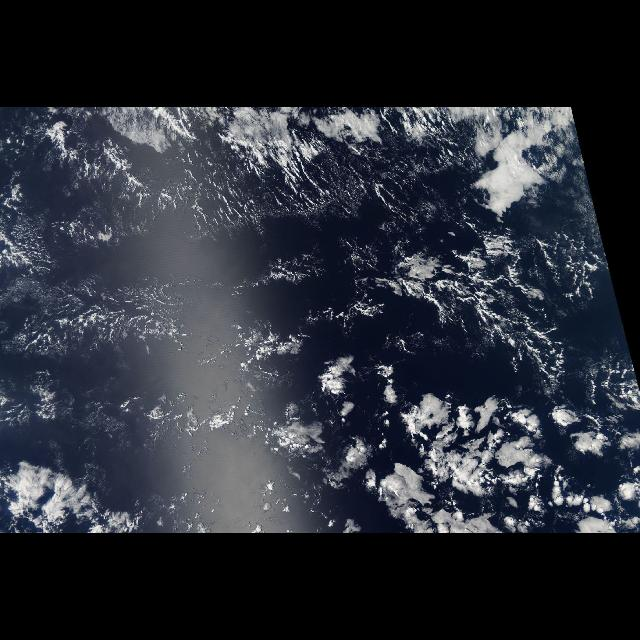Flower: (314, 353, 634, 529)
